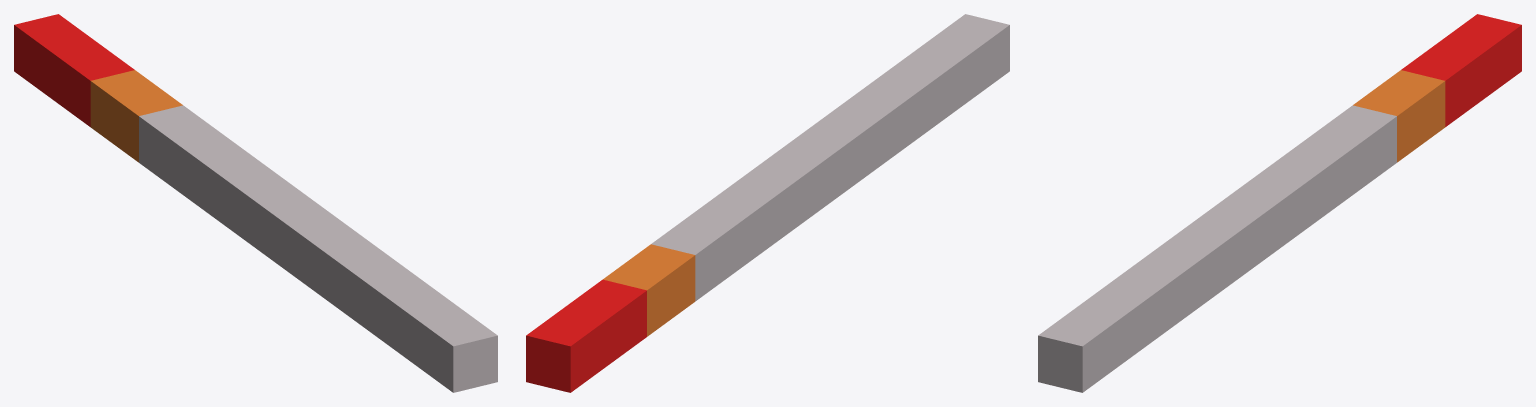
The model's file is heated_steel.glb.
3 renders of one model, left to right at view 1: azimuth 30°, elevation 25°; view 2: azimuth 150°, elevation 25°; view 3: azimuth 330°, elevation 25°, orthographic.
Parts seen in each view (by area): view 1: Cube; view 2: Cube; view 3: Cube.
Boxes of the visible parts, <box> form: Cube: <box>14,14,497,392</box>; Cube: <box>526,14,1009,392</box>; Cube: <box>1038,14,1521,392</box>.
Size of the model in its own units: 0.246 by 0.246 by 4.21.
